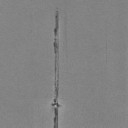slag inclusion: (52, 80, 60, 128), (54, 11, 58, 36), (54, 38, 58, 54)
